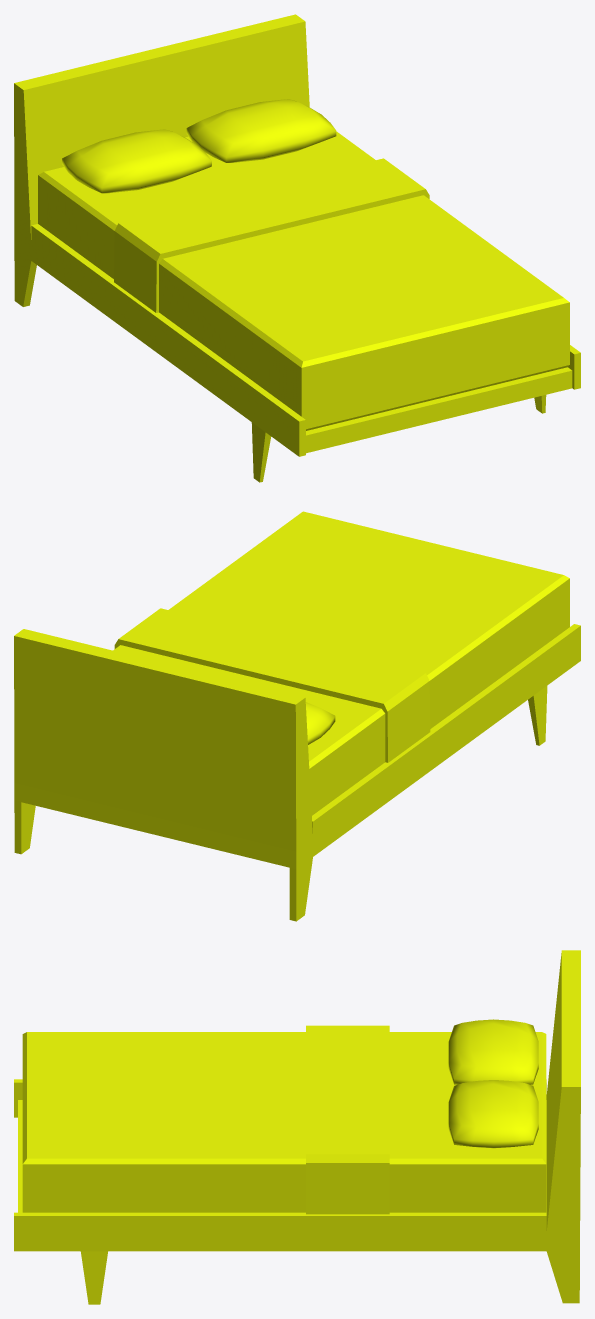
File: Bed1.FBX
3 renders of one model, top to bottom at view 1: azimuth 30°, elevation 25°; view 2: azimuth 150°, elevation 25°; view 3: azimuth 270°, elevation 25°, orthographic.
Parts seen in each view (by area): view 1: Box001; view 2: Box001; view 3: Box001.
Part boxes in pixels (x1,y1,x2,y2): Box001: [14, 14, 580, 482]; Box001: [14, 511, 580, 921]; Box001: [14, 950, 580, 1304].
Size of the model in its own units: 2.33 by 1.69 by 4.02.
